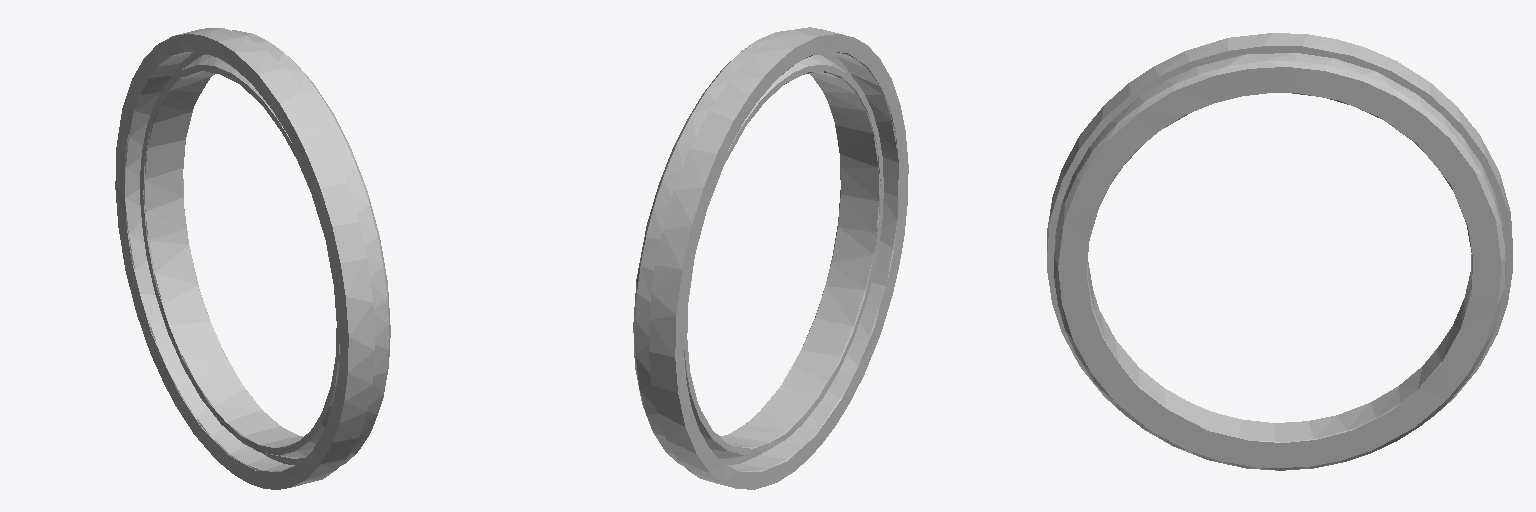
File: seal ring.obj
3 views of the same model, side by side, from view 1: azimuth 30°, elevation 25°; view 2: azimuth 150°, elevation 25°; view 3: azimuth 270°, elevation 25° (orthographic).
Visible parts, largest first — view 1: imagetostl_mesh; view 2: imagetostl_mesh; view 3: imagetostl_mesh.
Boxes of the visible parts, <box> form: imagetostl_mesh: <box>115,28,390,489</box>; imagetostl_mesh: <box>633,27,908,489</box>; imagetostl_mesh: <box>1047,33,1512,470</box>.
Size of the model in its own units: 24.47 by 207 by 207.